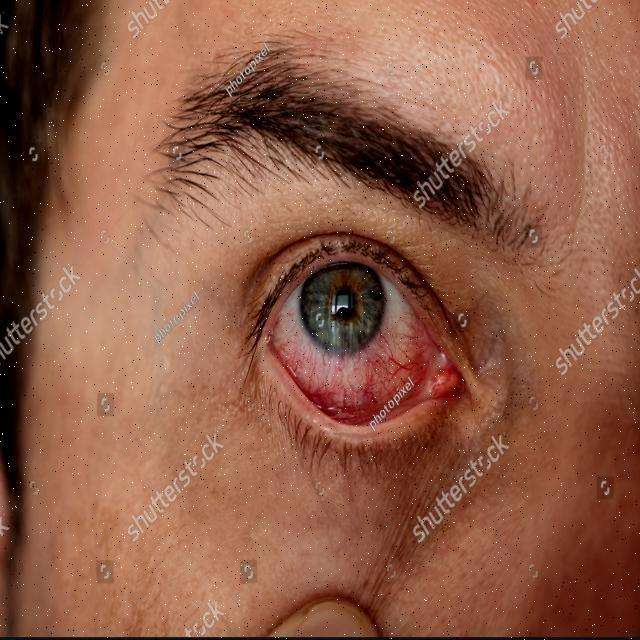Conjunctivitis: (258, 308, 467, 430)
